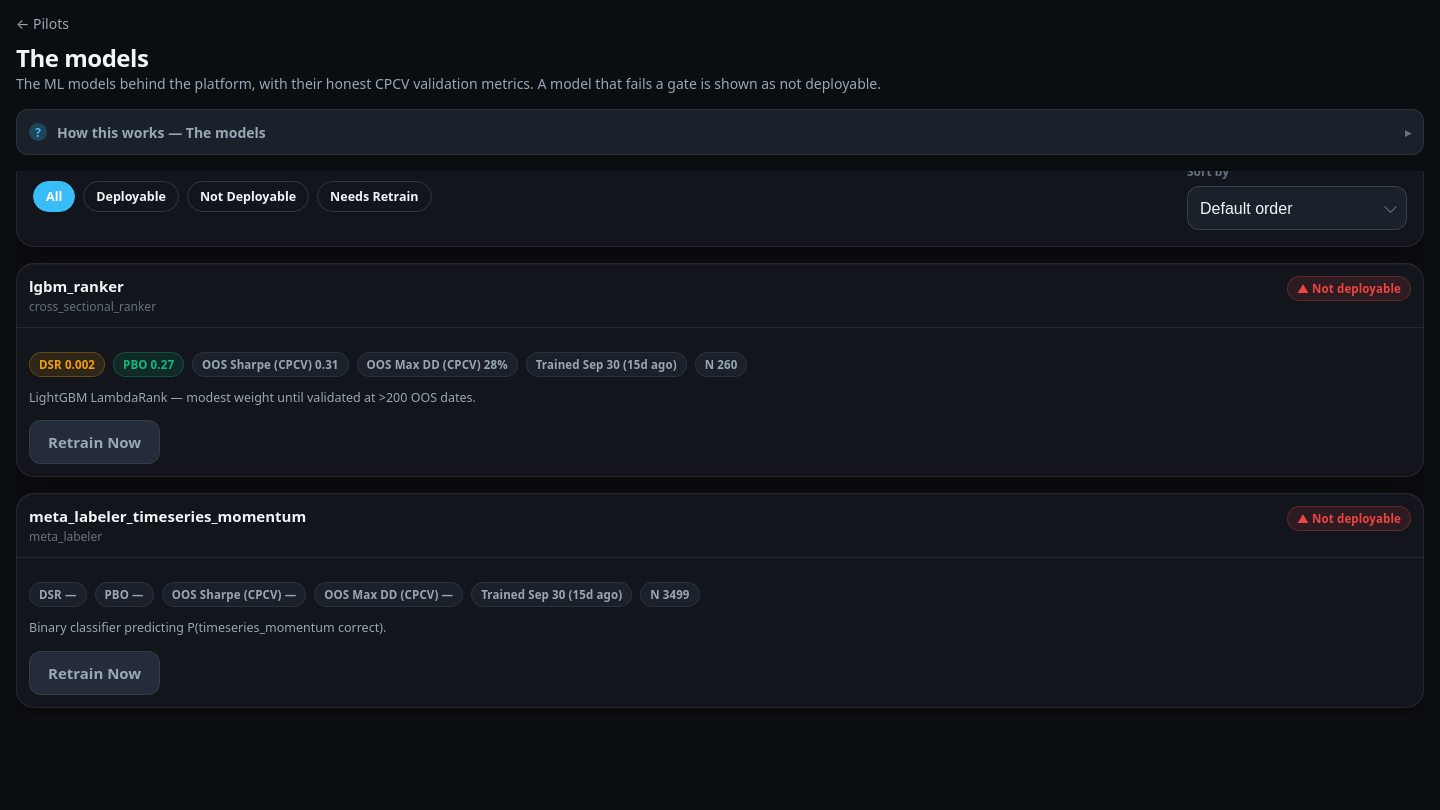
Test: Models screen (real mock API) › a JobConflictError from createJob names the existing job in the inline error, not the generic 409 message -- covers a double-click or a second tab's Retrain Now
(page scrolled)
Click the button "Retrain Now" below "DSR 0.002". click: (95, 442)
box: [29, 420, 160, 464]
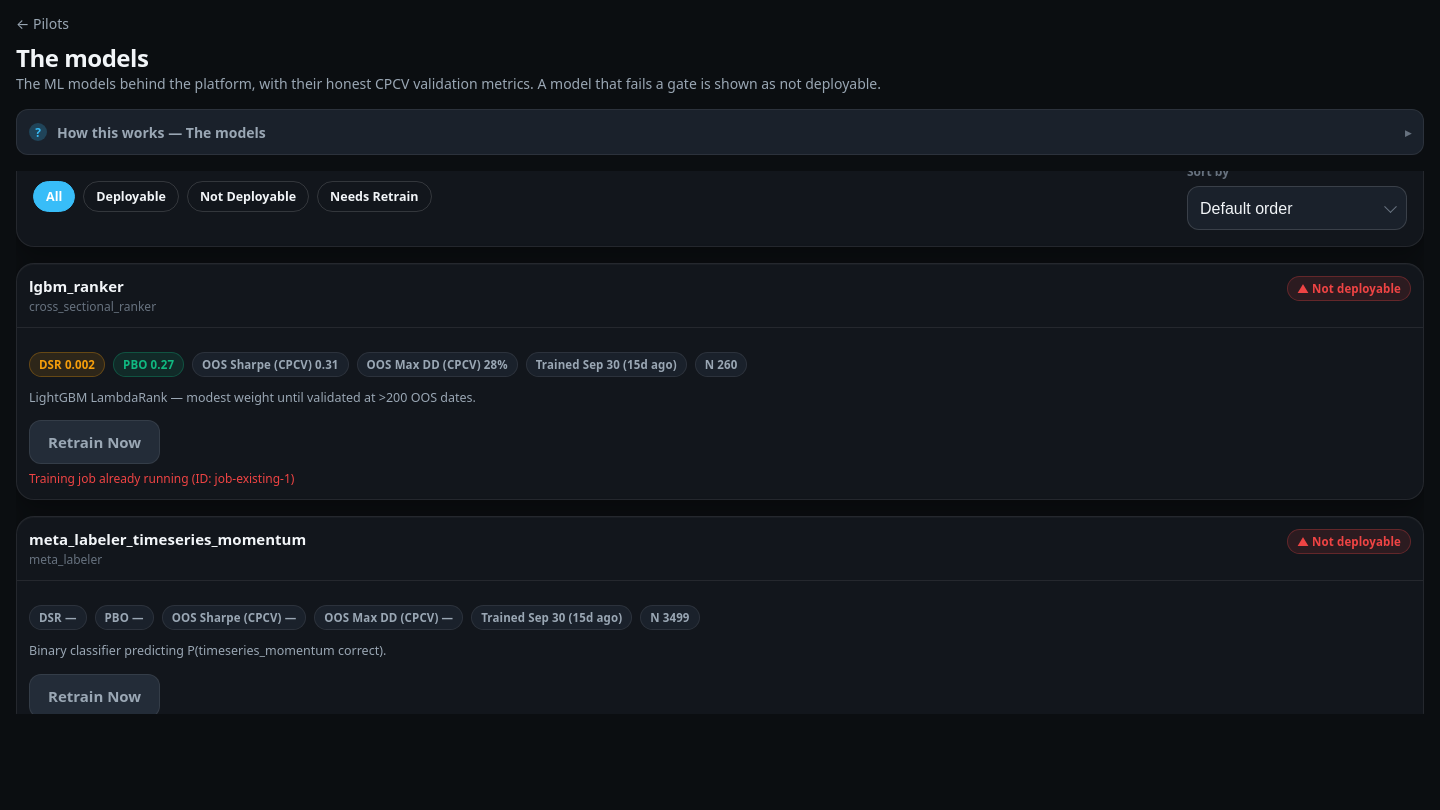
Check: the text "Training job already running (ID: job-existing-1)" is shown, box [29, 470, 294, 487]
